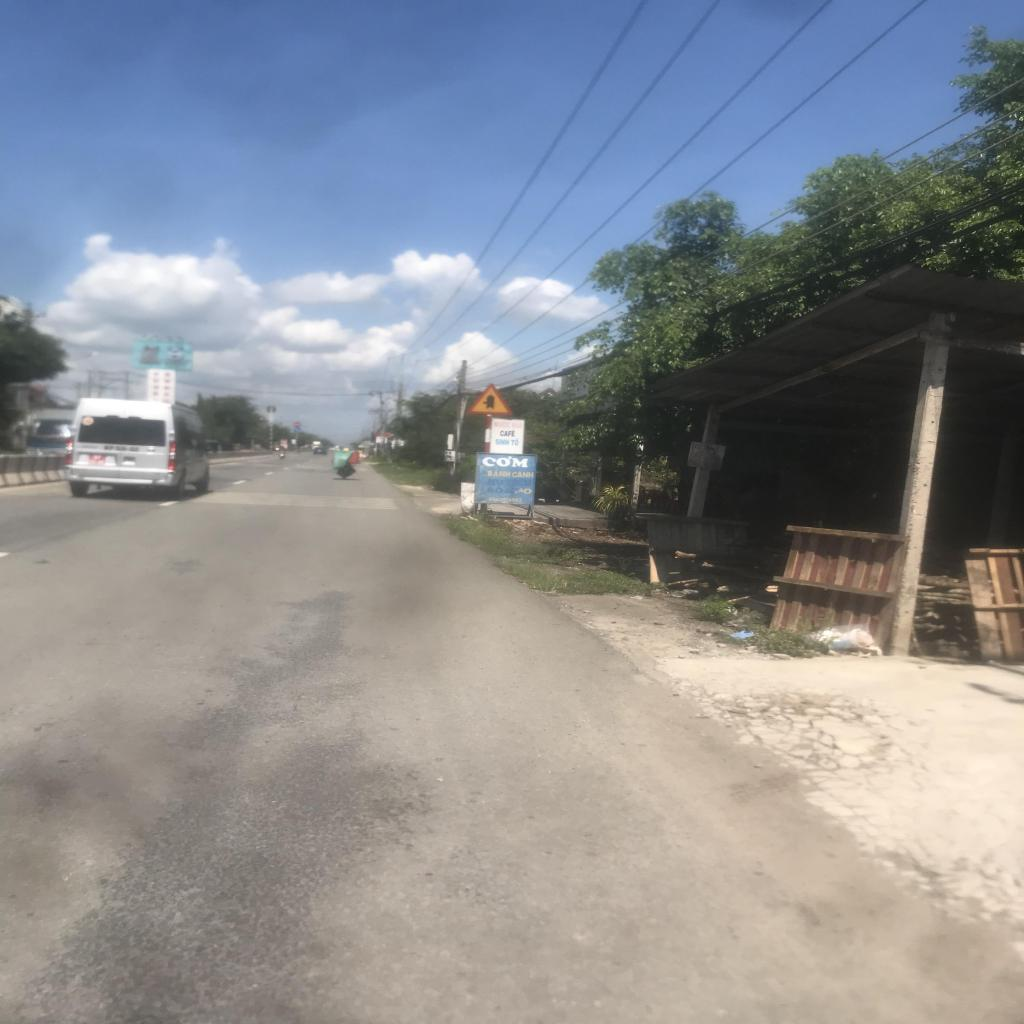cam_xe_di_nguoc_chieu: (294, 422, 300, 427)
giao_nhau_voi_duong_khong_uu_tien: (465, 382, 512, 414)
huong_phai_di_vuot_chuong_ngai_vat_phai: (295, 428, 301, 432)
